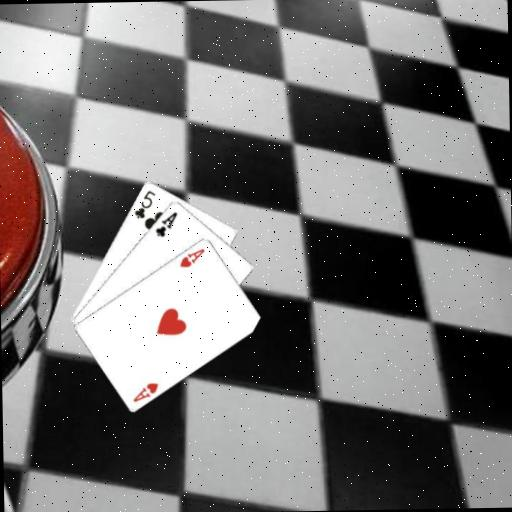5C: (131, 187, 157, 220)
AC: (152, 209, 180, 239)
AH: (177, 245, 207, 269), (130, 380, 160, 404)
